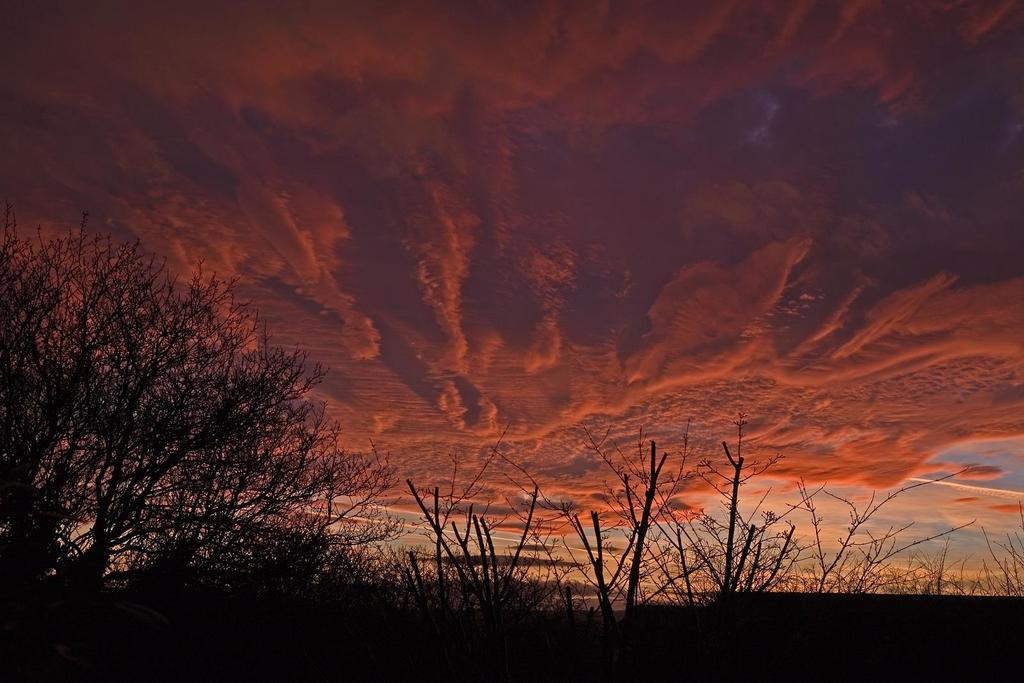Tree: (0, 214, 359, 585), (409, 399, 1000, 622)
